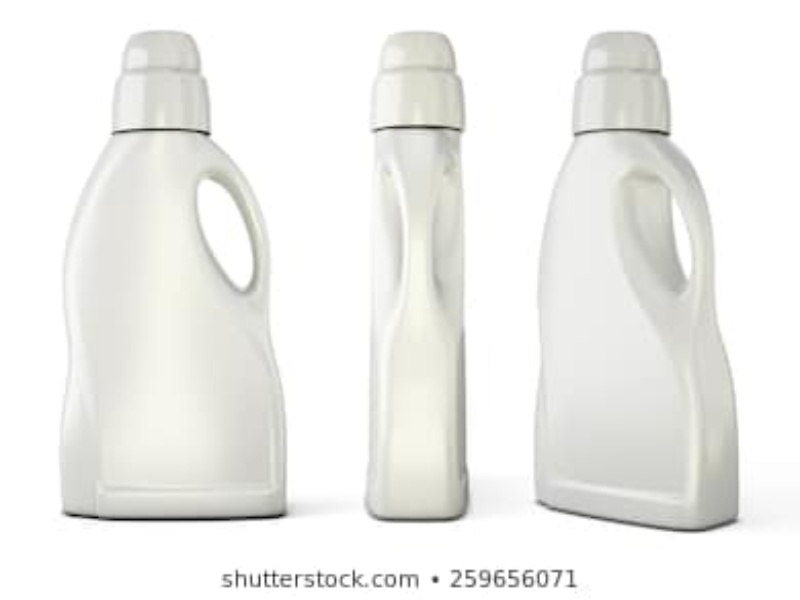detergent-bottle: (53, 29, 316, 522), (530, 30, 758, 533), (354, 28, 487, 528)
